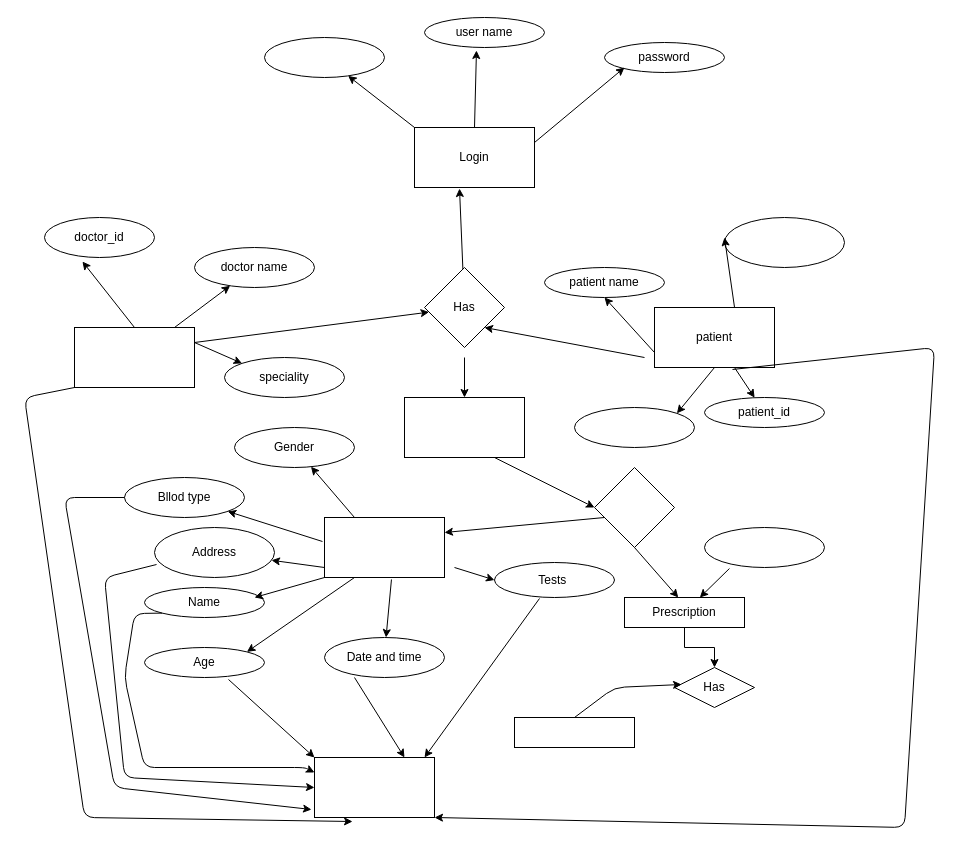
This 960x853 diagram has some shape labels left out. Each missing label, with the centre of its shape:
"Application" belongs at (374,787).
"Details" belongs at (384,547).
"Doctor" belongs at (134,357).
"fee" belongs at (634,427).
"Login_id" belongs at (324,57).
"Manages" belongs at (634,507).
"medicine _desc" belongs at (764,547).
"problem" belongs at (784,242).
"reports" belongs at (574,732).
"User" belongs at (464,427).
